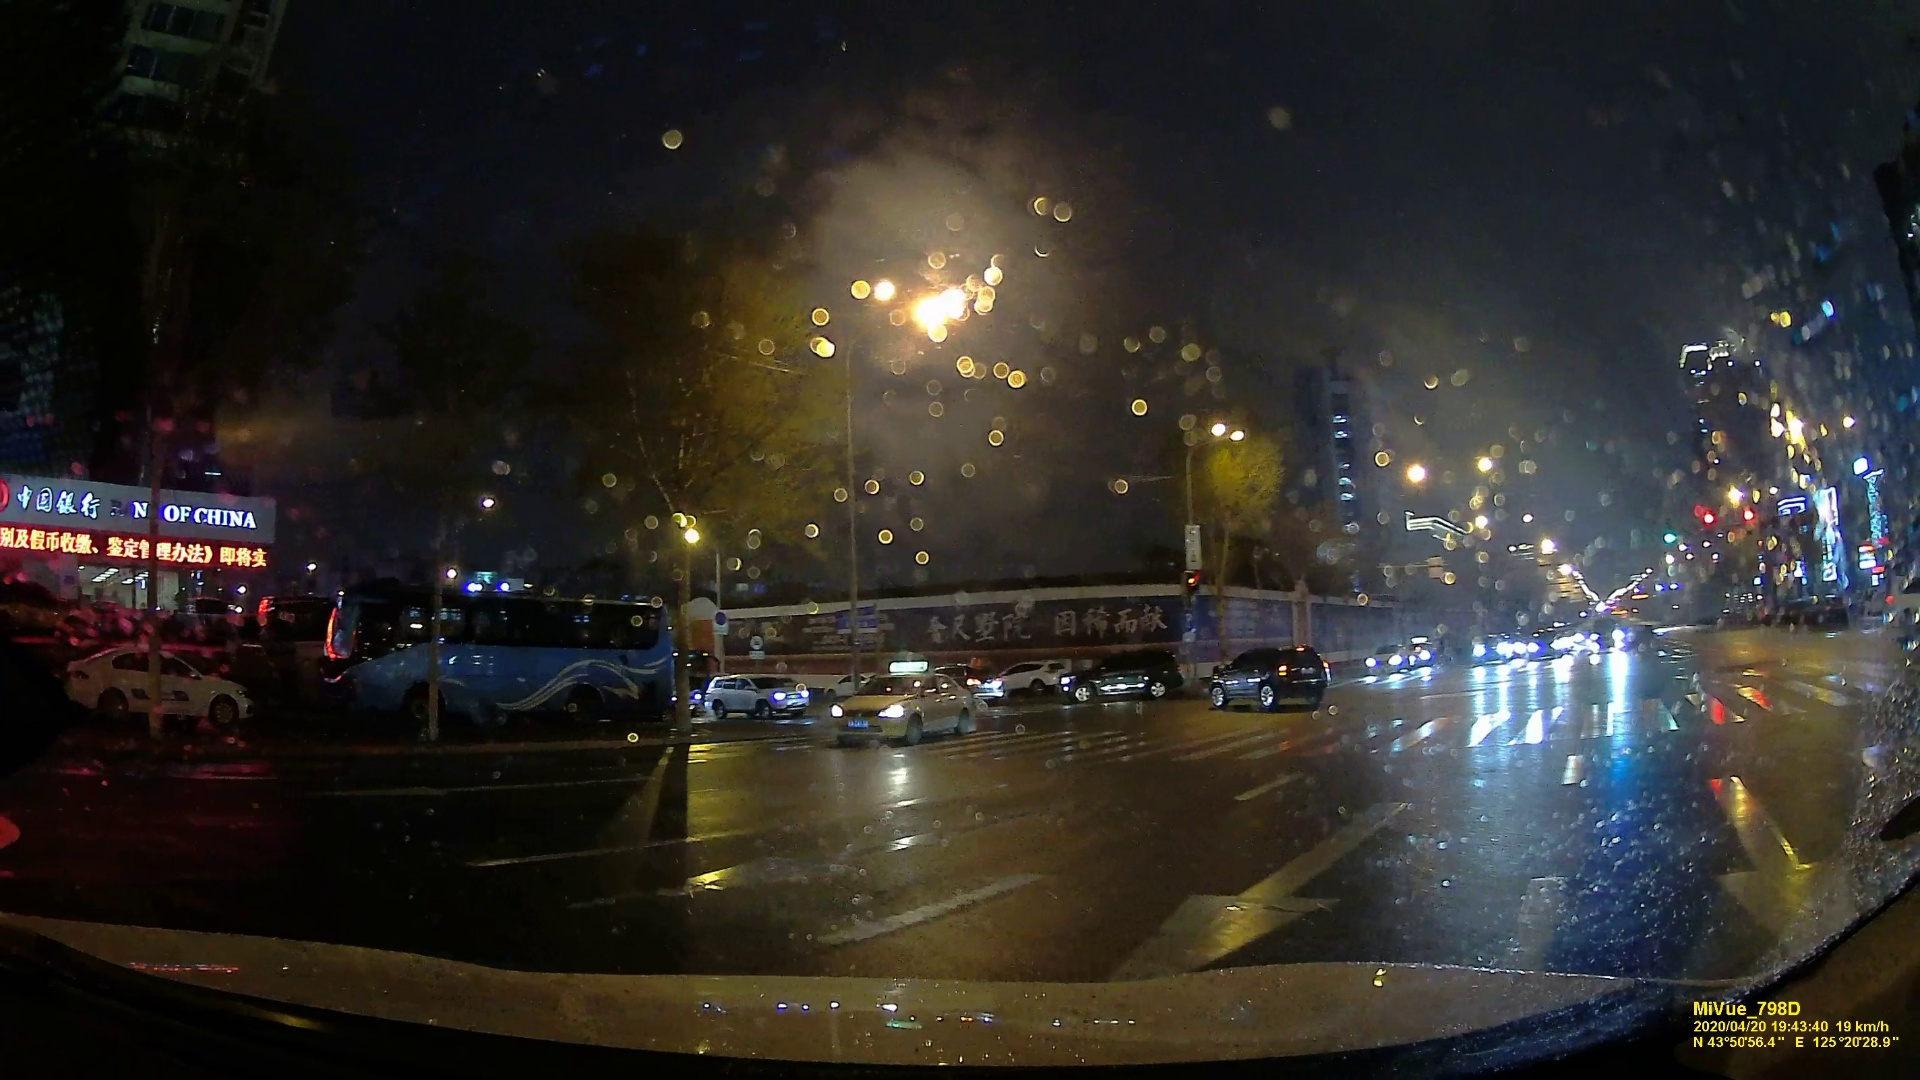bus: (318, 578, 684, 736)
traffic_sign: (1182, 524, 1204, 568), (1184, 570, 1197, 593)
vehicle: (829, 673, 977, 742), (1209, 641, 1341, 711), (1065, 654, 1182, 702), (702, 671, 808, 720), (994, 661, 1060, 691), (1364, 644, 1406, 673), (1586, 618, 1623, 647), (1473, 633, 1507, 659)
